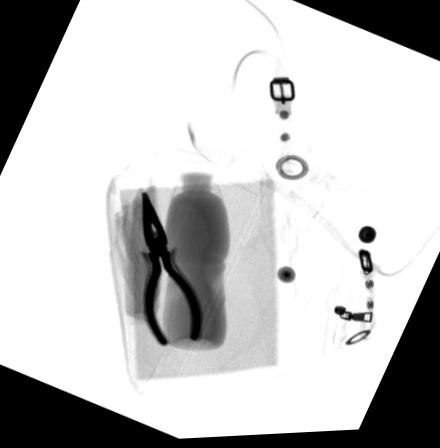Pliers: (135, 191, 203, 347)
